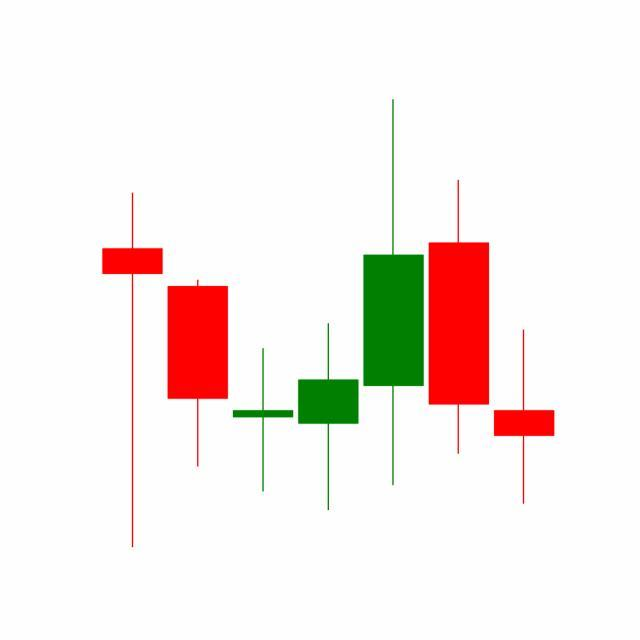Hikkake Pattern: (229, 99, 555, 515)
